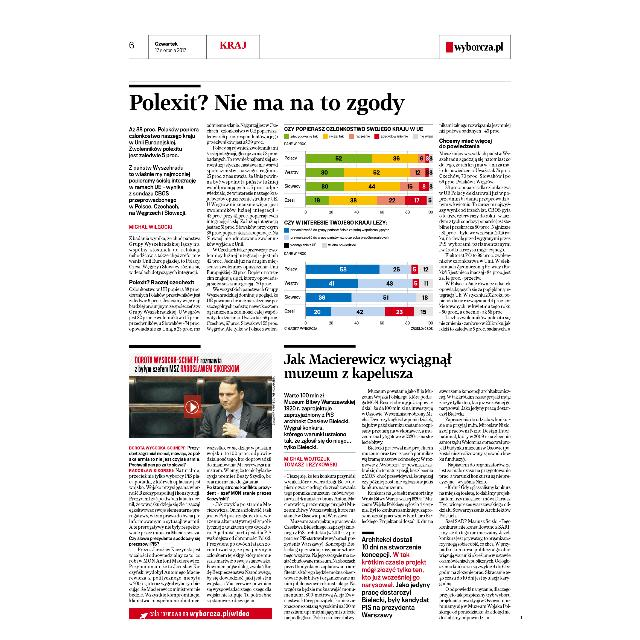article: (126, 82, 514, 338), (282, 342, 516, 624), (125, 344, 278, 606)
